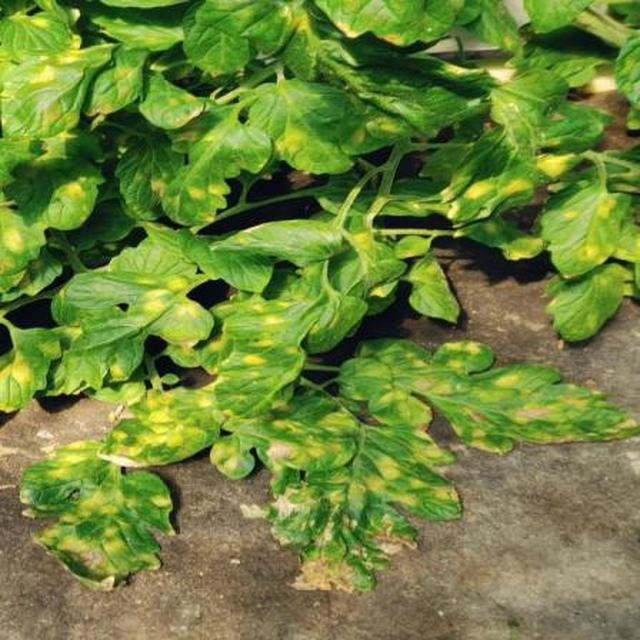Leaf Mold: (118, 69, 640, 640)
